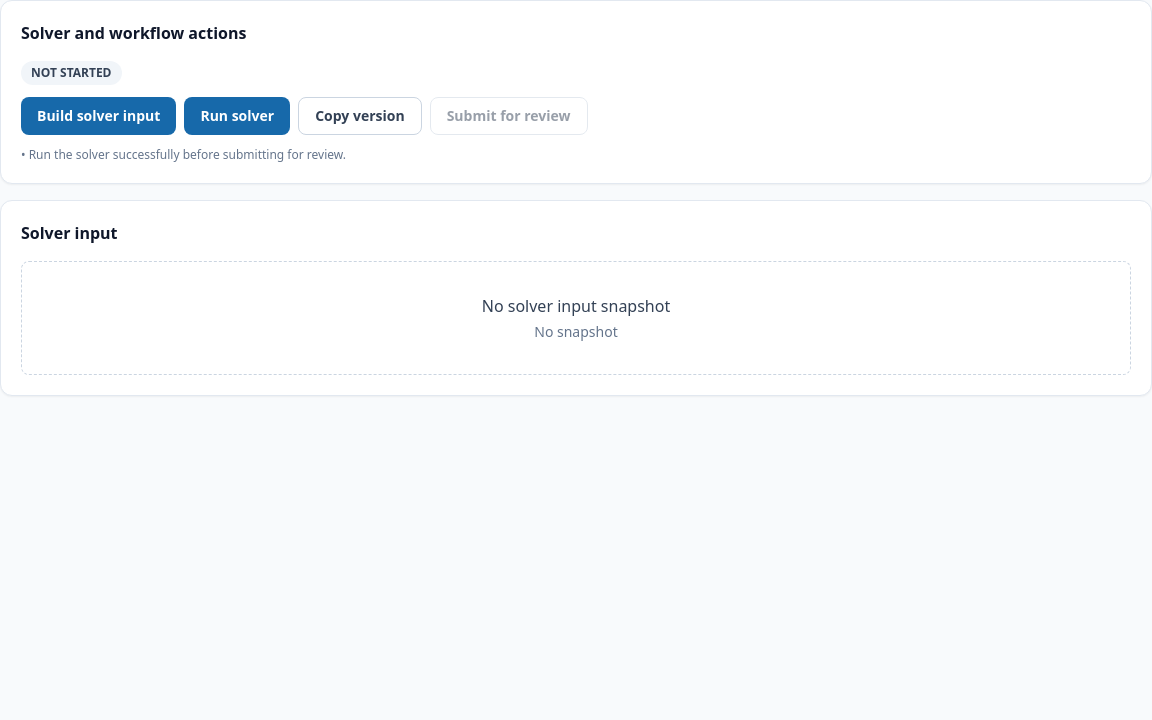
Scenario: Version operational actions › submits solver configuration and displays the result
This screenshot has width=1152, height=720.
Click the button "Run solver" at [237, 116], box [184,97,290,135]
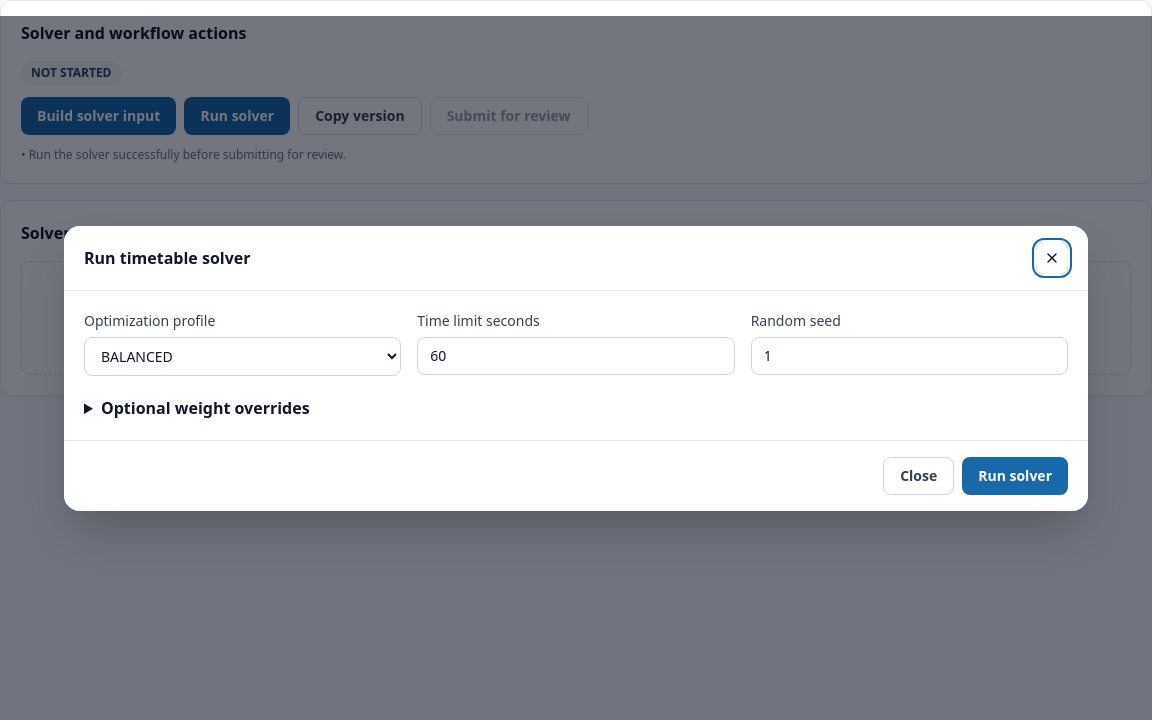
Click the button "Run solver" at [1015, 476], box [962,456,1068,494]
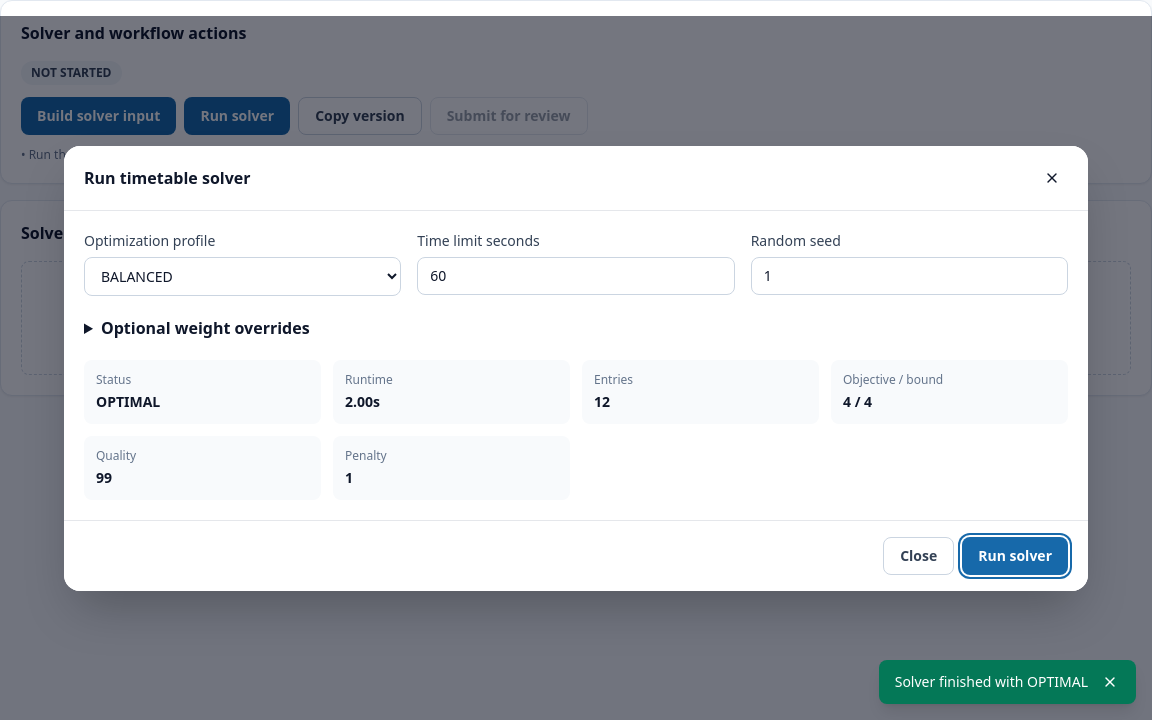
Result: the text "OPTIMAL" is shown at [96,392,160,410]
